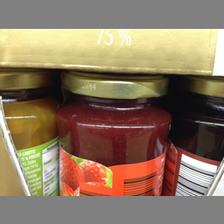Marmelade: (56, 70, 172, 194), (0, 67, 58, 194), (164, 74, 222, 194)
